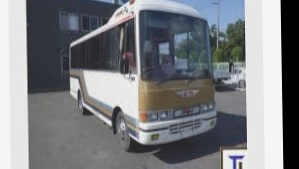bus: (69, 0, 217, 152)
